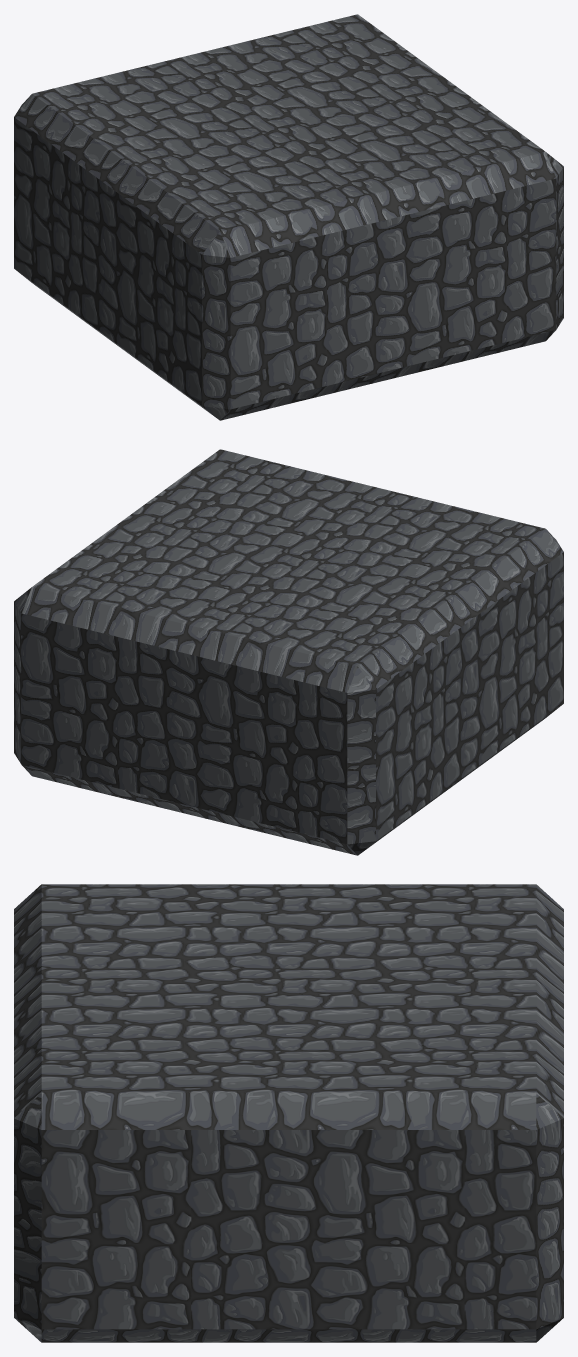
The model's file is rocha-polida.fbx.
3 views of the same model, one above another, from view 1: azimuth 30°, elevation 25°; view 2: azimuth 150°, elevation 25°; view 3: azimuth 270°, elevation 25° (orthographic). The views are drawn at different scales.
Visible parts, largest first — view 1: Cube; view 2: Cube; view 3: Cube.
Boxes of the visible parts, <box> form: Cube: <box>14,14,563,420</box>; Cube: <box>14,449,563,855</box>; Cube: <box>14,884,563,1342</box>.
Bounding box in the file's own units: 200 × 100 × 200.
